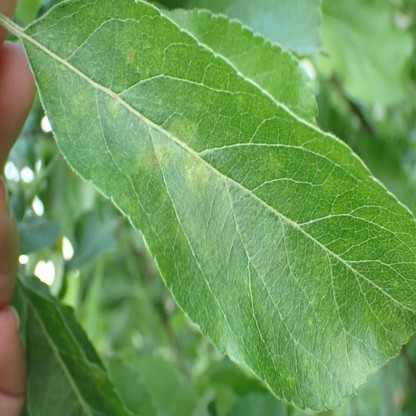scab: (182, 151, 207, 192), (142, 147, 173, 169), (72, 91, 93, 117), (167, 119, 189, 142), (107, 97, 121, 117), (129, 50, 133, 57)
